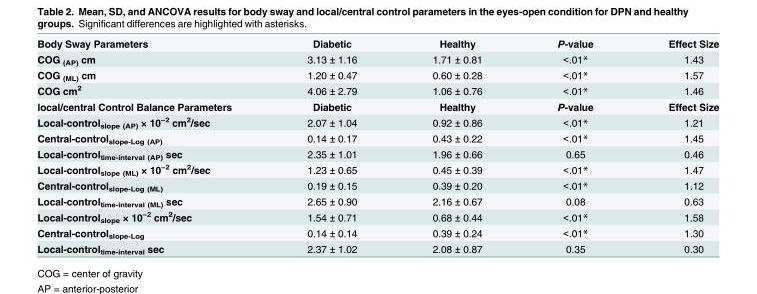table: (36, 37, 718, 255)
table column: (36, 37, 268, 255), (393, 37, 519, 255), (268, 37, 393, 255), (519, 37, 630, 255), (630, 37, 718, 255)
table row: (36, 113, 718, 130), (36, 51, 718, 67), (36, 82, 718, 98), (36, 130, 718, 146), (36, 161, 718, 177), (36, 177, 718, 193), (36, 208, 718, 224), (36, 224, 718, 240), (36, 67, 718, 82), (36, 98, 718, 113), (36, 146, 718, 161), (36, 193, 718, 208), (36, 240, 718, 255), (36, 37, 718, 51)
